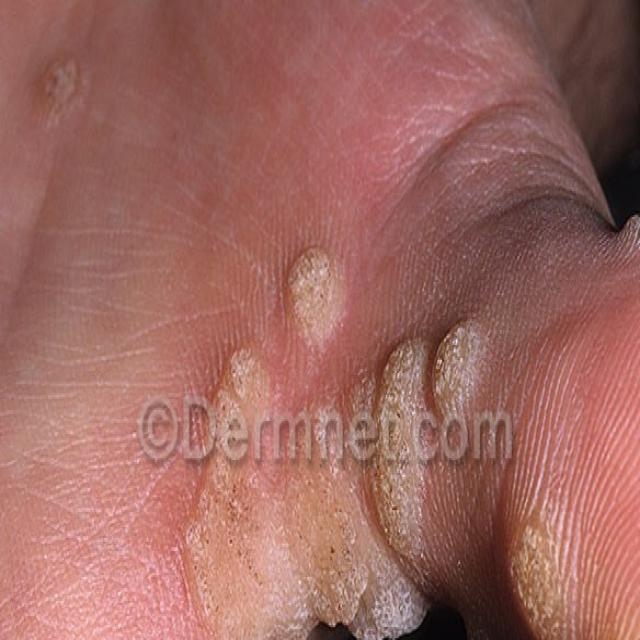Warts: (150, 180, 638, 640), (593, 130, 640, 291), (29, 44, 100, 102)
